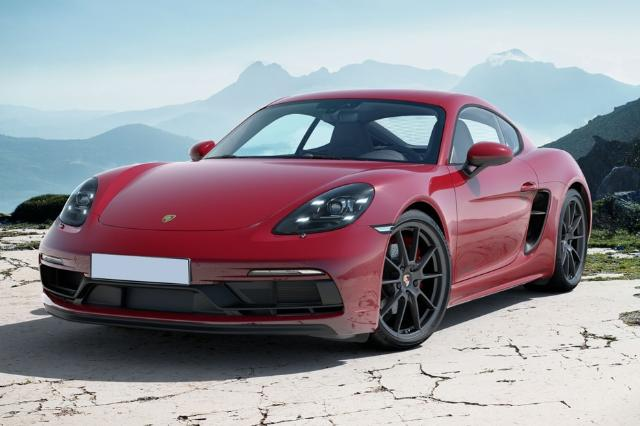porsche: (38, 90, 592, 350)
